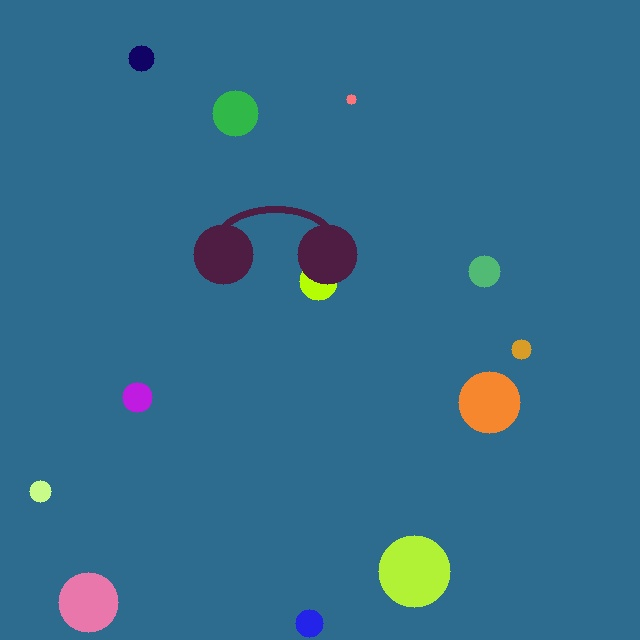over_ear: (189, 190, 361, 288)
